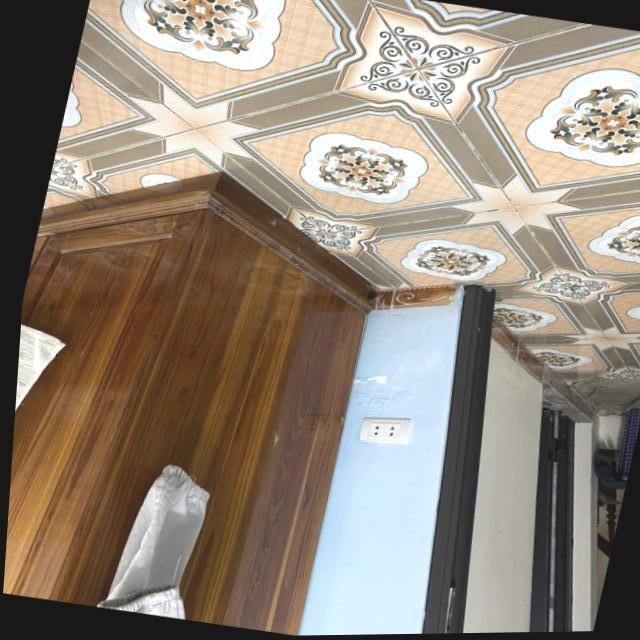outlet: (357, 412, 413, 450)
